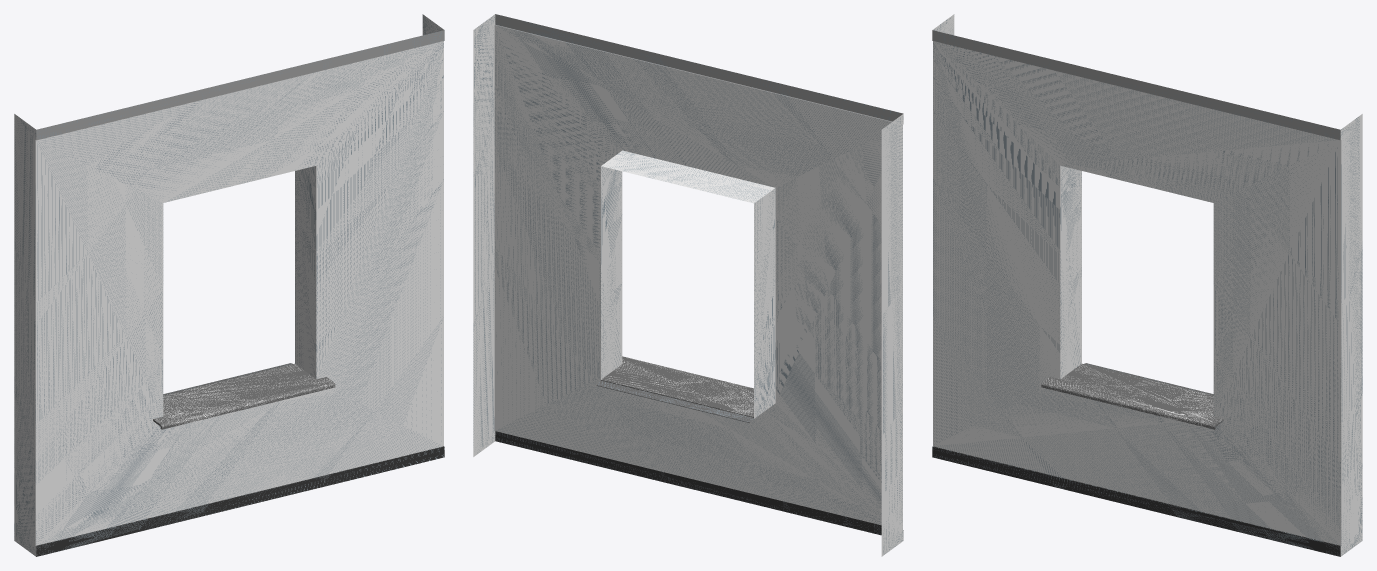
The model's file is WindowBlock_os_plinth_[400x400]_150x200x[100].dae.
3 views of the same model, side by side, from view 1: azimuth 30°, elevation 25°; view 2: azimuth 150°, elevation 25°; view 3: azimuth 330°, elevation 25° (orthographic).
Parts seen in each view (by area): view 1: group_2 (×4), group_1; view 2: group_2 (×4), group_1 (×2); view 3: group_2 (×4), group_1.
Boxes of the visible parts, left/top/right/bottom form: group_2 (×4): left=14, top=14, right=444, bottom=556; group_1: left=153, top=363, right=335, bottom=429; group_2 (×4): left=473, top=14, right=903, bottom=556; group_1 (×2): left=596, top=356, right=753, bottom=422; group_2 (×4): left=932, top=14, right=1362, bottom=556; group_1: left=1041, top=363, right=1223, bottom=429.
Bounding box in the file's own units: 157 × 23.03 × 157.
